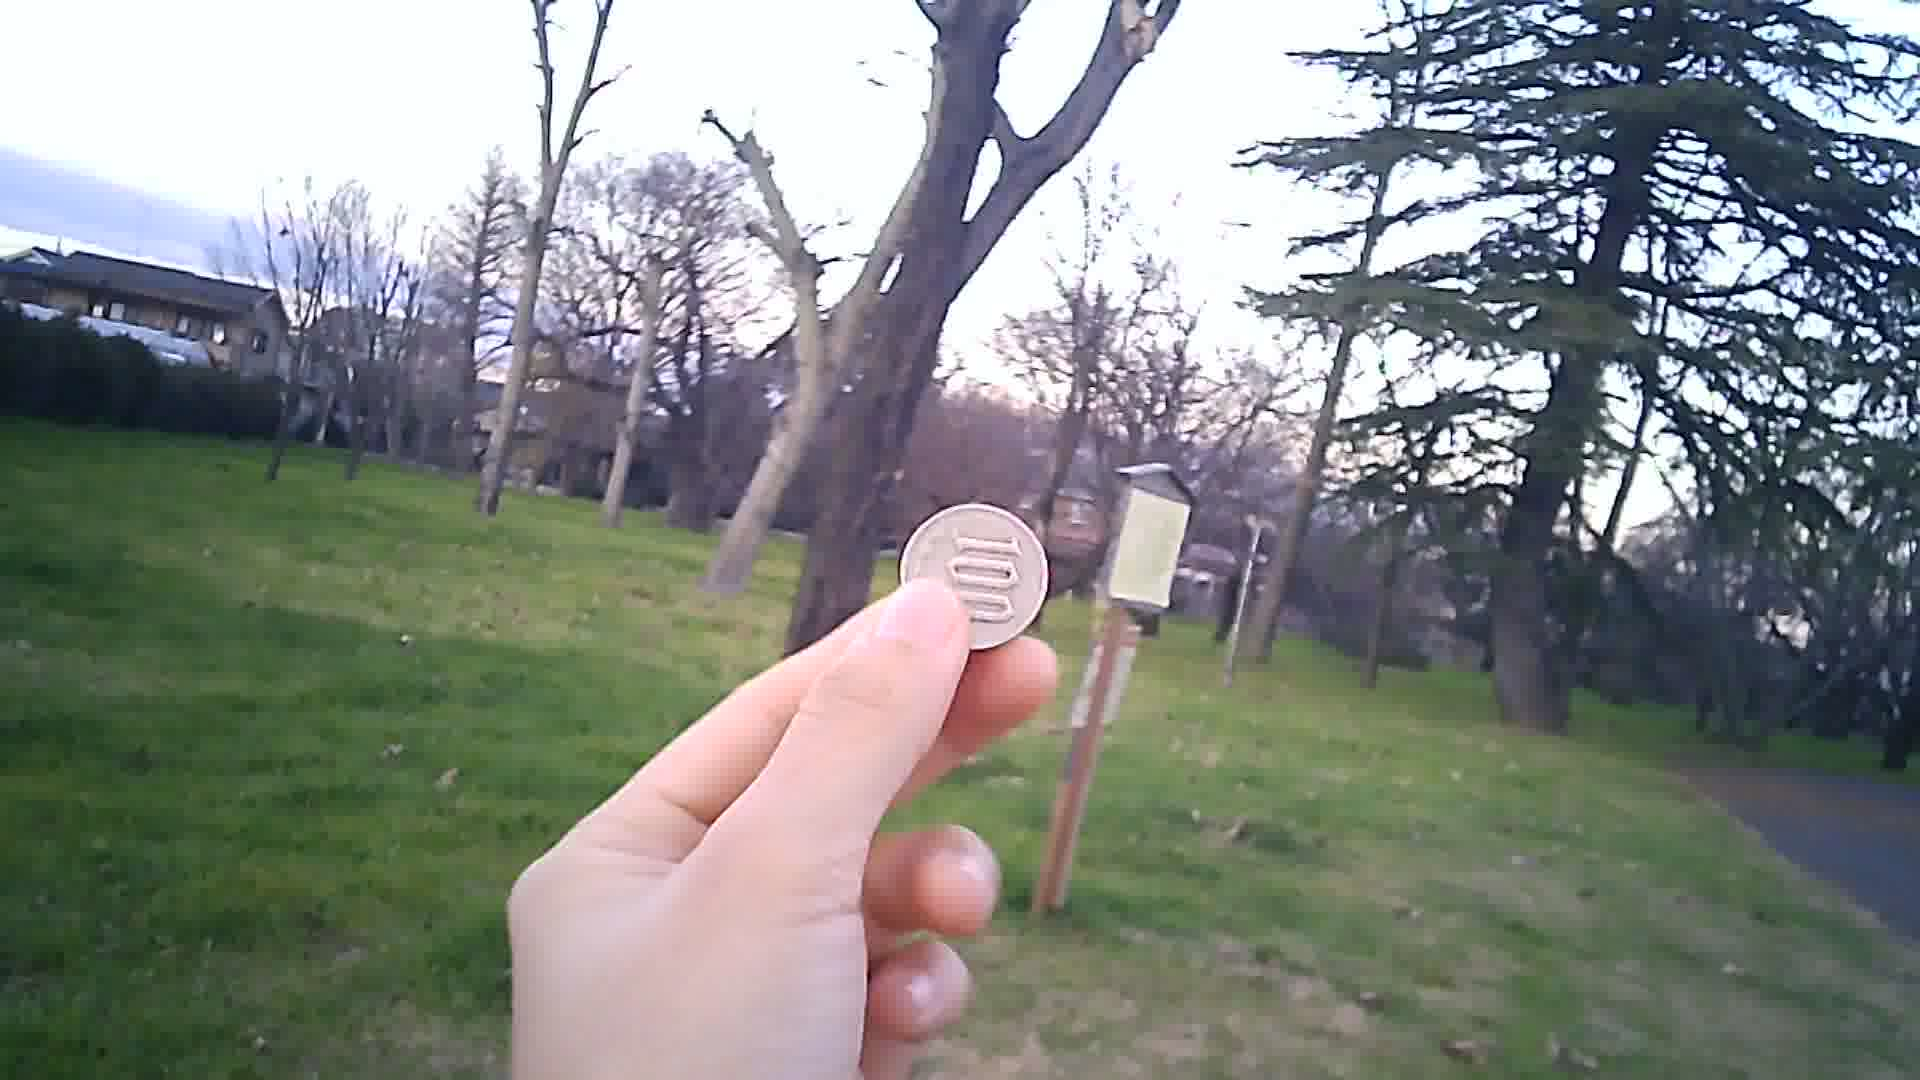100 Yen: (891, 493, 1050, 665)
